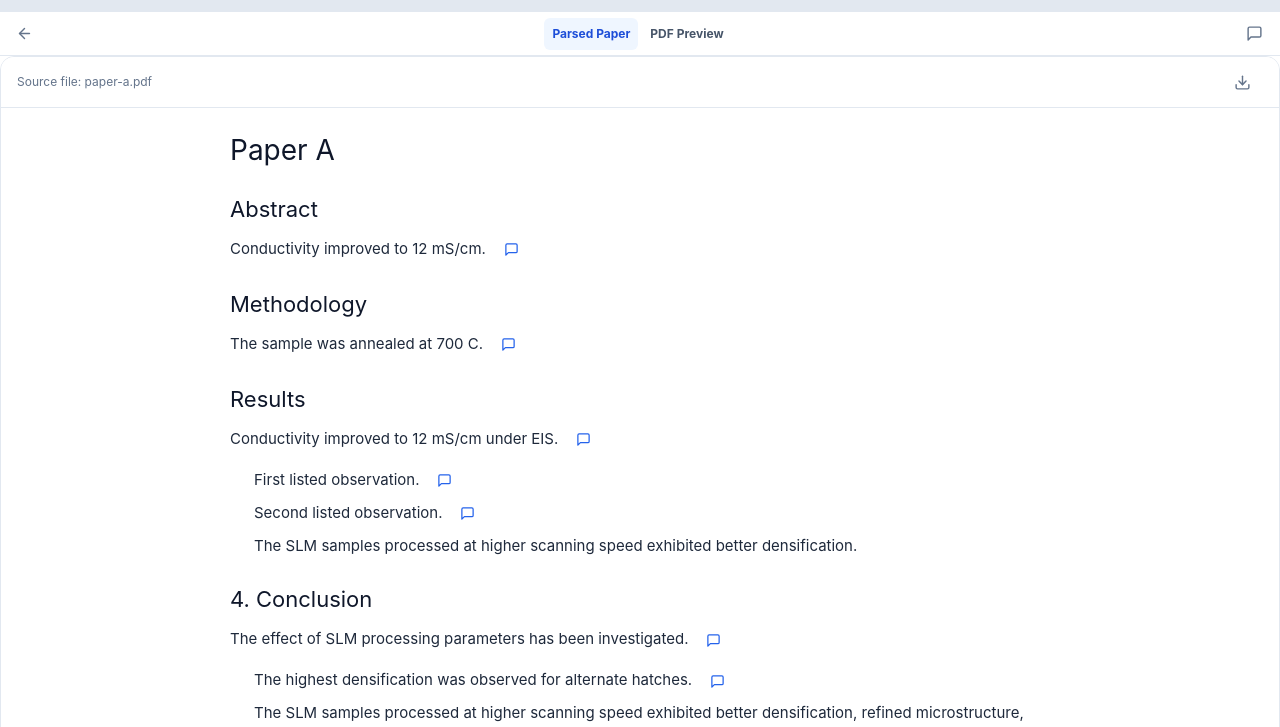
Scenario: collections/[id]/documents/[document_id]/+page.svelte › uses parsed source text when the PDF cannot be rendered
Click the tab "PDF Preview": click(687, 34) [642,18,732,50]
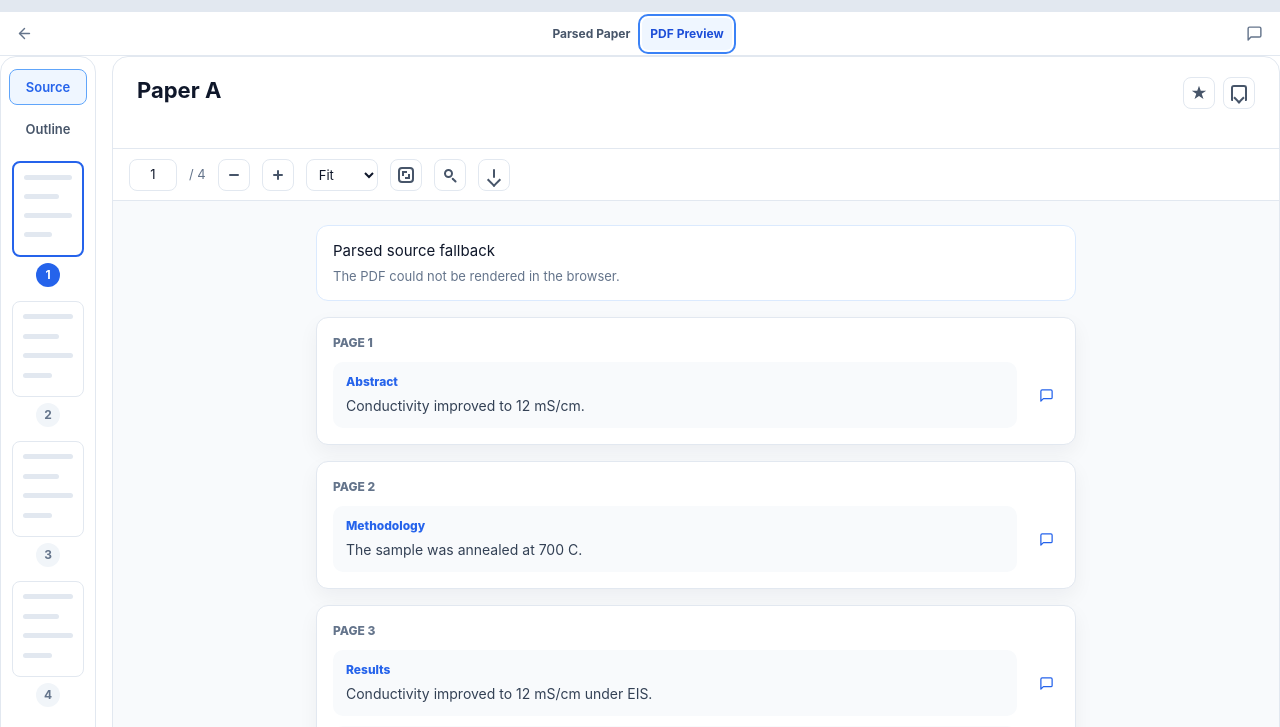
Result: the heading "Parsed source fallback" is shown at [333,241,495,260]
